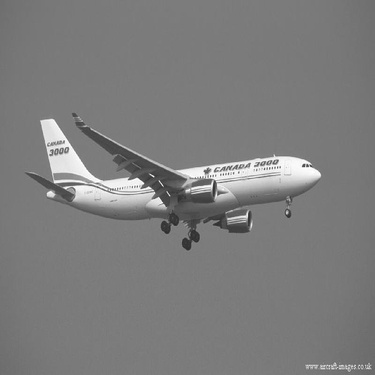airplane: (18, 92, 334, 246)
